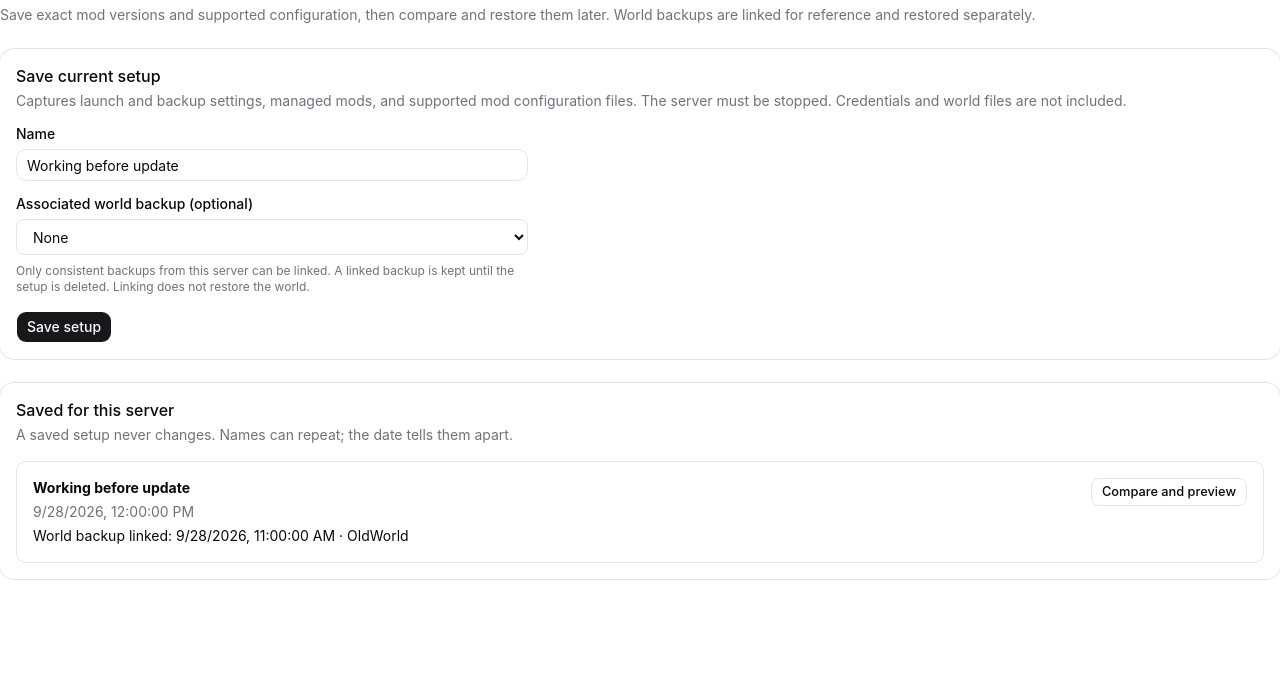
Test: Saved setups › invalidates a stale preview instead of retrying a restore
Click the button "Compare and preview" at (1169, 492), box 1091,478 -> 1247,506
(page scrolled)
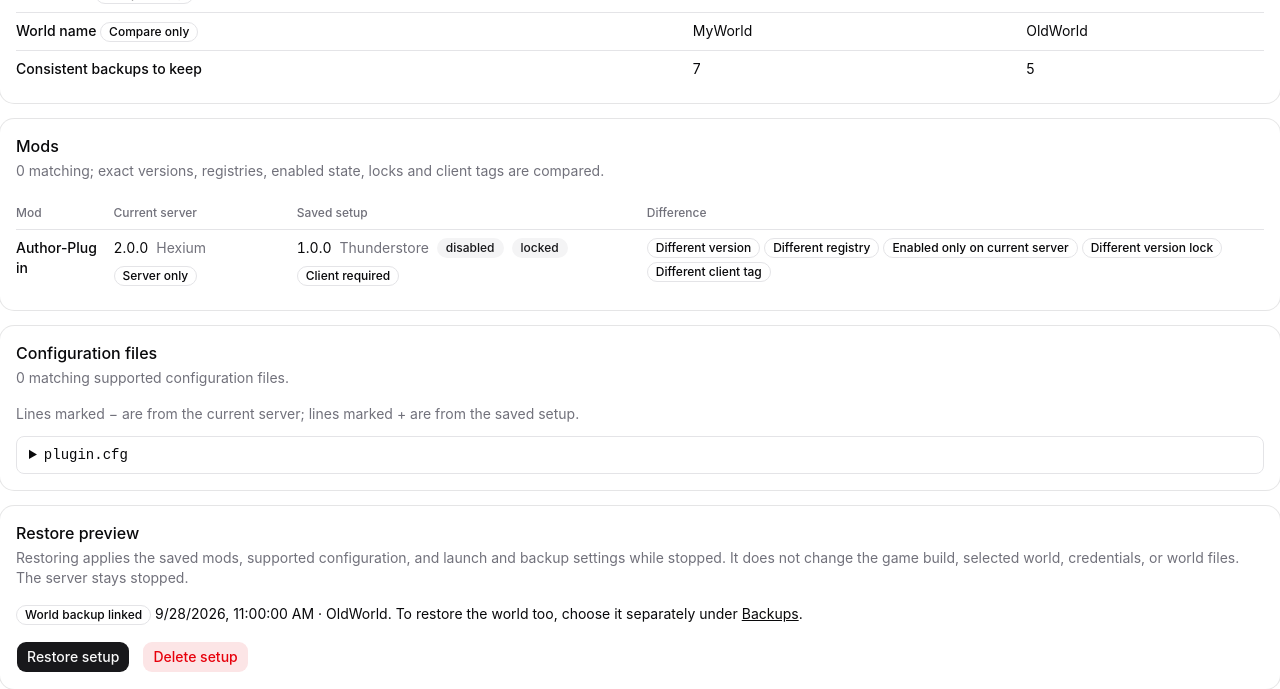
Click the button "Restore setup" at (73, 657), box 16,641 -> 130,673
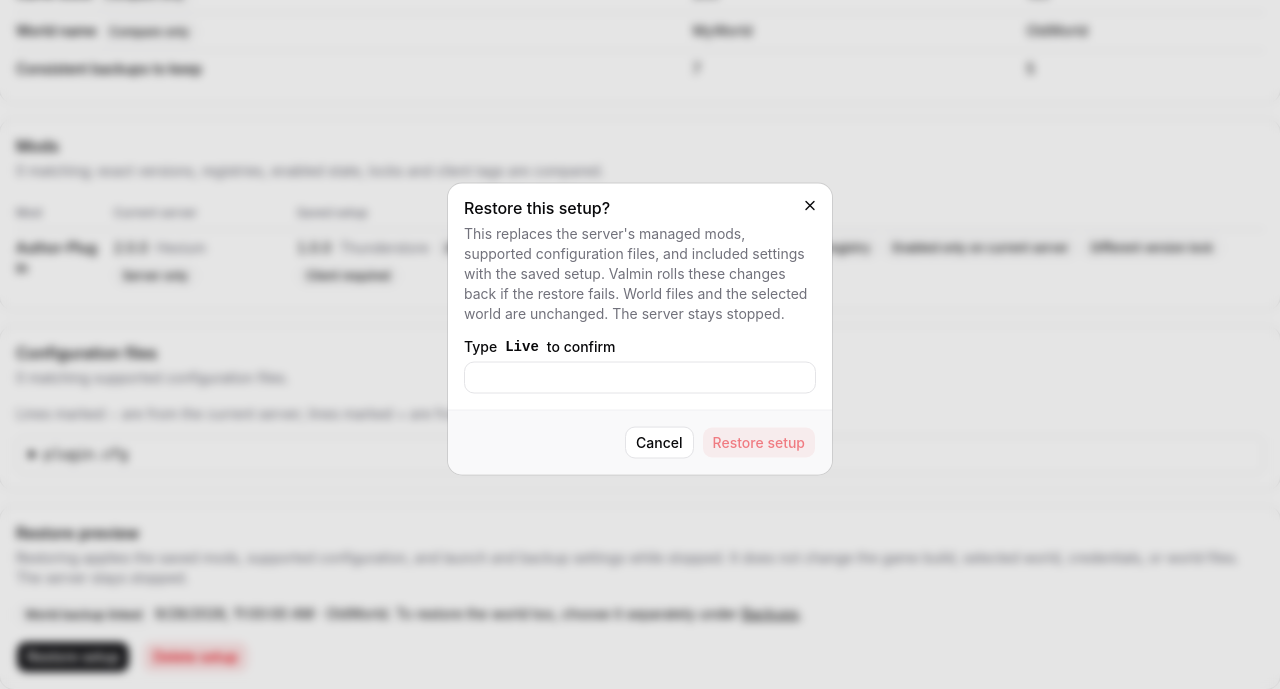
Type "Live" into the field labelled "Type Live to confirm" at (640, 378), box 464,362 -> 816,394
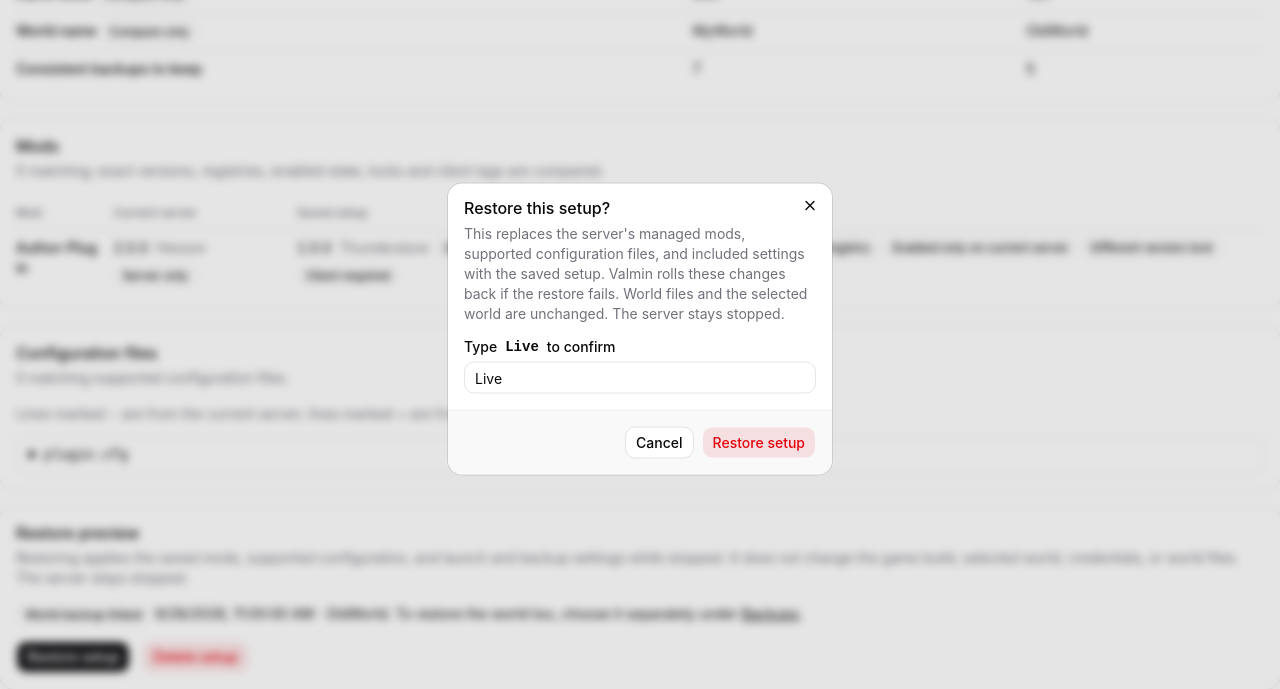
Click the button "Restore setup" at (759, 442), box 702,426 -> 816,458
(page scrolled)
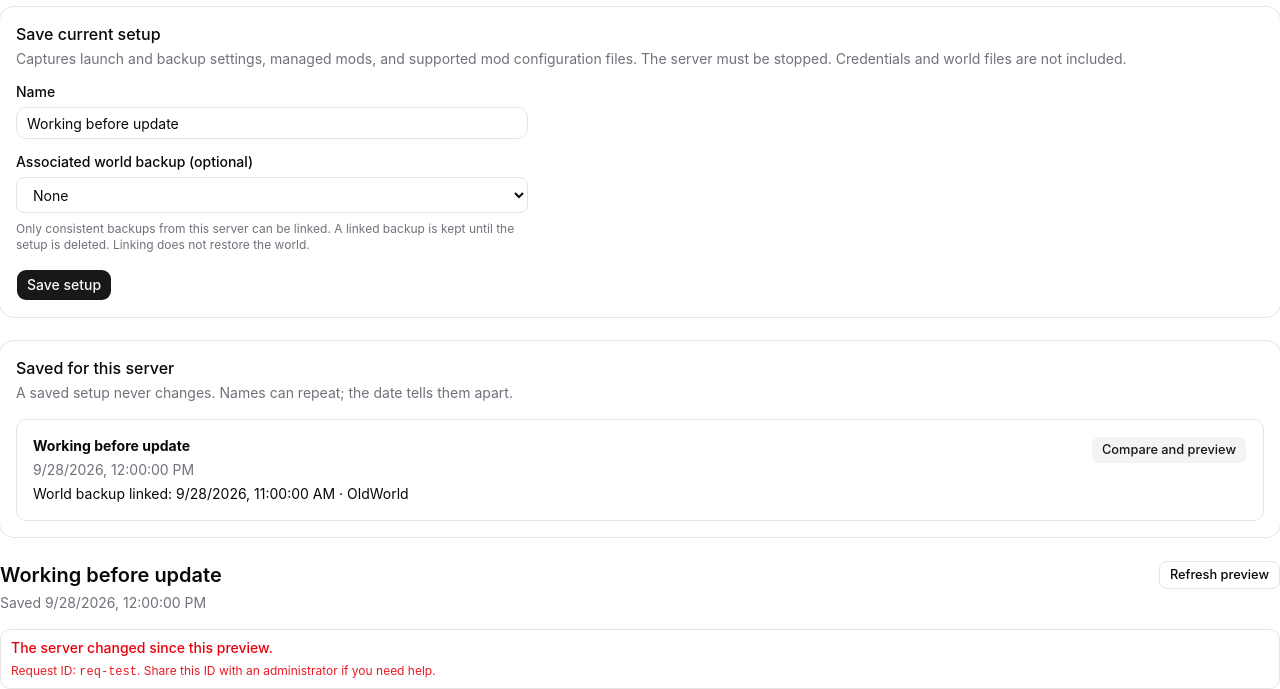
Check: the heading "Restore preview" is gone
